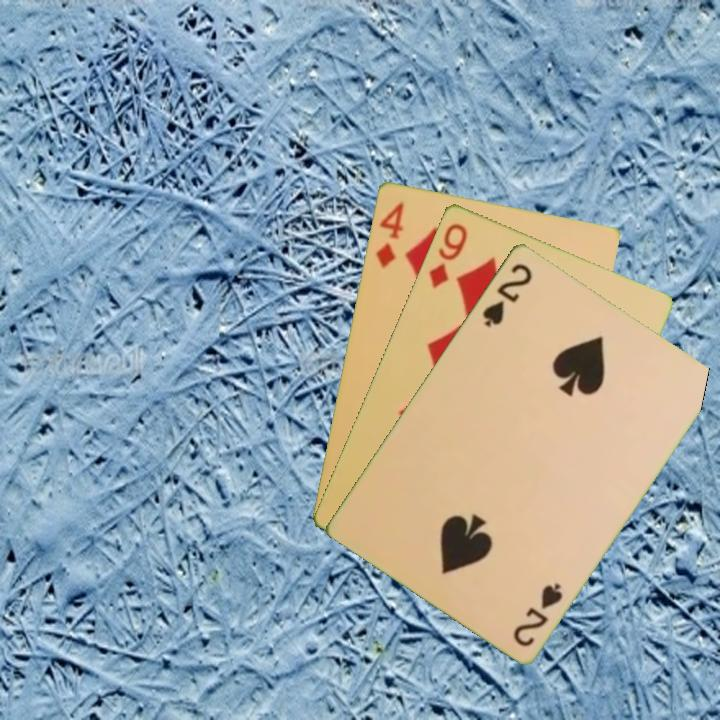2s: (478, 259, 535, 330), (509, 578, 566, 649)
4d: (372, 198, 406, 270)
9d: (425, 219, 470, 291)
